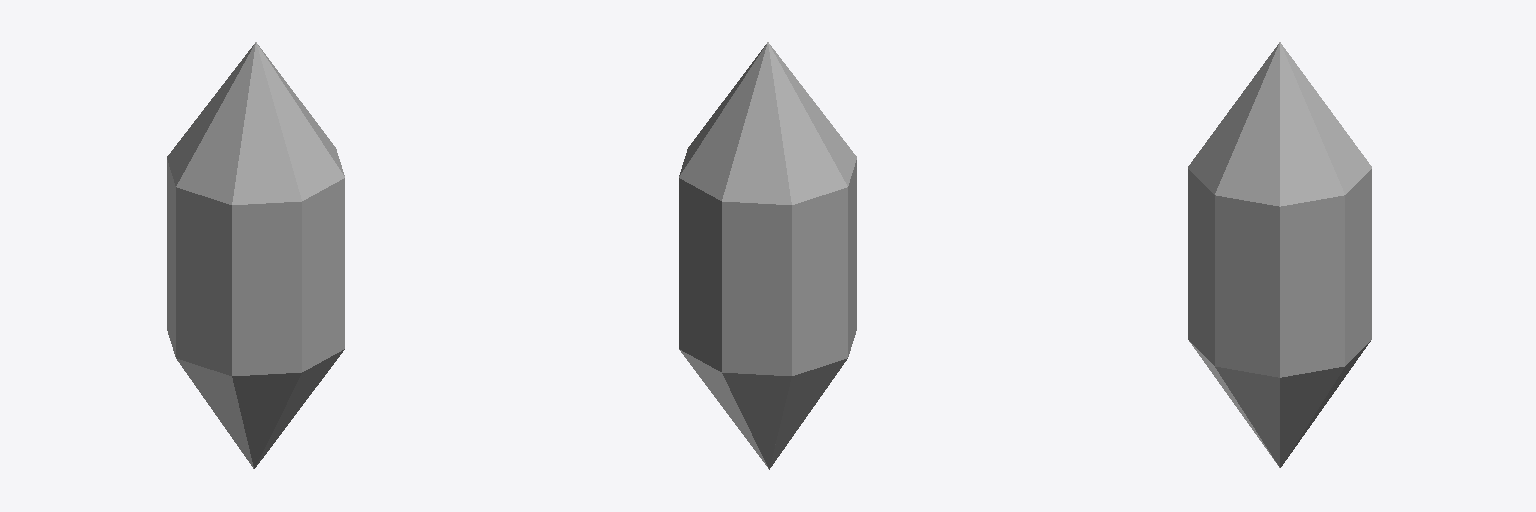
Rendered from exp-crystal.obj.
The picture shows the model from 3 angles: view 1: azimuth 30°, elevation 25°; view 2: azimuth 150°, elevation 25°; view 3: azimuth 270°, elevation 25°; orthographic projection.
Visible parts, largest first — view 1: Cylinder0; view 2: Cylinder0; view 3: Cylinder0.
Boxes of the visible parts, x1,y1,x2,y2 form: Cylinder0: [167, 42, 344, 468]; Cylinder0: [679, 42, 856, 469]; Cylinder0: [1188, 42, 1371, 467].
Size of the model in its own units: 3.04 by 7.74 by 3.04.